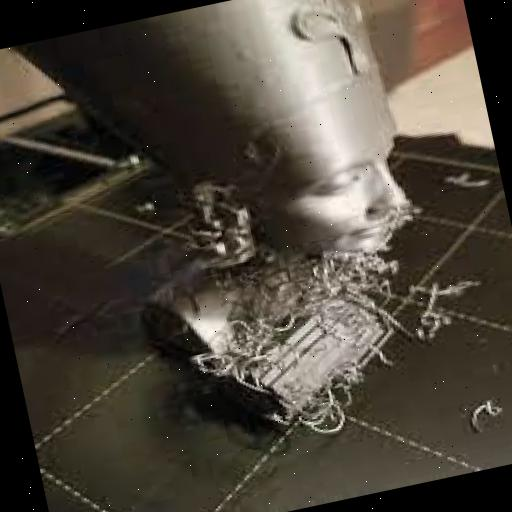spaghetti: (202, 216, 464, 406)
